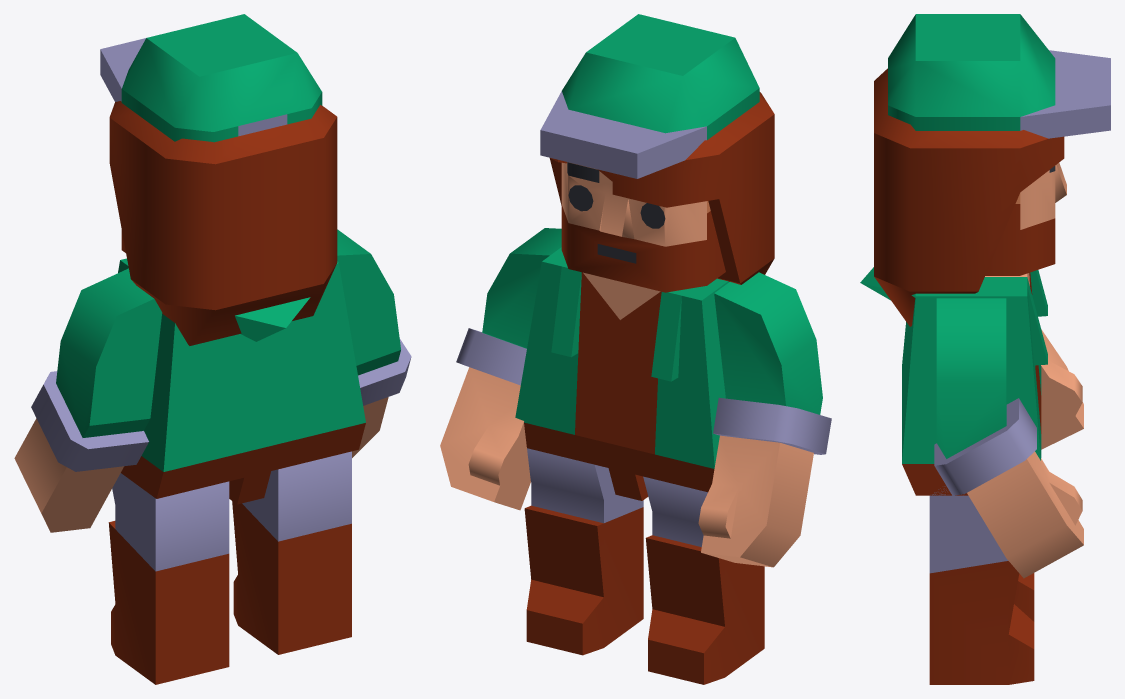
File: man_not_clown.glb
3 renders of one model, left to right at view 1: azimuth 30°, elevation 25°; view 2: azimuth 150°, elevation 25°; view 3: azimuth 270°, elevation 25°, orthographic.
Visible parts, largest first — view 1: mergedBlocks(Clone); view 2: mergedBlocks(Clone); view 3: mergedBlocks(Clone).
Part boxes in pixels (x1=…): mergedBlocks(Clone): x1=14, y1=14, x2=411, y2=684; mergedBlocks(Clone): x1=440, y1=14, x2=831, y2=684; mergedBlocks(Clone): x1=860, y1=14, x2=1110, y2=684.
Bounding box in the file's own units: 0.5671 × 0.9414 × 0.36.
1 material, 1 textured.
